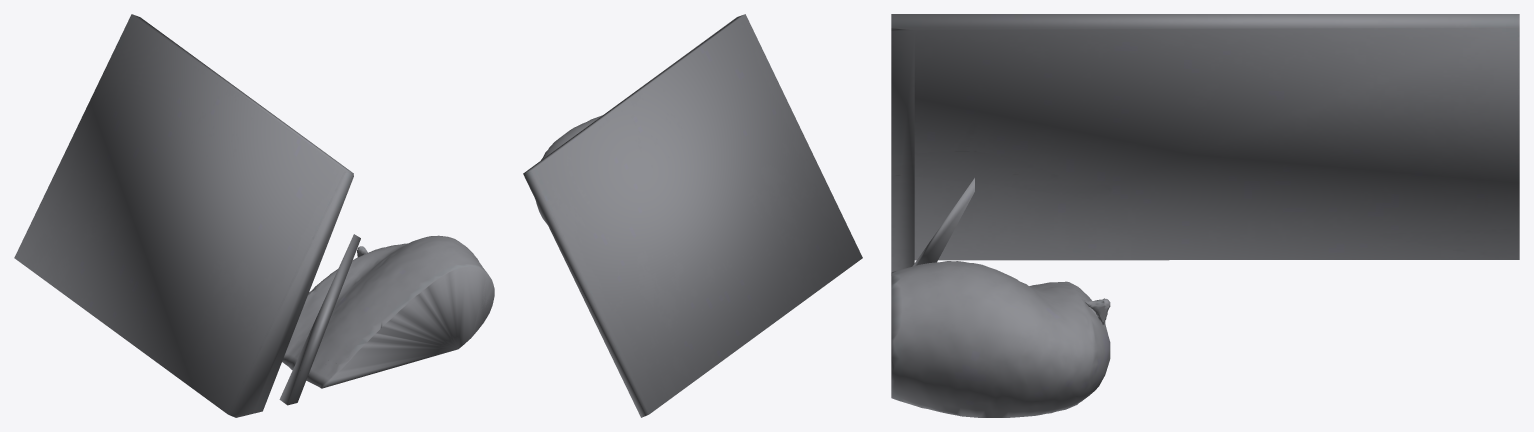
The picture shows the model from 3 angles, left to right: view 1: azimuth 30°, elevation 25°; view 2: azimuth 150°, elevation 25°; view 3: azimuth 270°, elevation 25°; orthographic projection. The views are drawn at different scales.
Parts seen in each view (by area): view 1: tripo_node_e2c423e3-2de3-491e-b09e-ad699b6d5e57; view 2: tripo_node_e2c423e3-2de3-491e-b09e-ad699b6d5e57; view 3: tripo_node_e2c423e3-2de3-491e-b09e-ad699b6d5e57.
Part boxes in pixels (box(x1,y1,x2,y2)): tripo_node_e2c423e3-2de3-491e-b09e-ad699b6d5e57: box(14, 14, 494, 417); tripo_node_e2c423e3-2de3-491e-b09e-ad699b6d5e57: box(523, 14, 862, 417); tripo_node_e2c423e3-2de3-491e-b09e-ad699b6d5e57: box(891, 14, 1519, 417).
Size of the model in its own units: 0.752 by 0.5684 by 0.998.
1 material, 1 textured.
